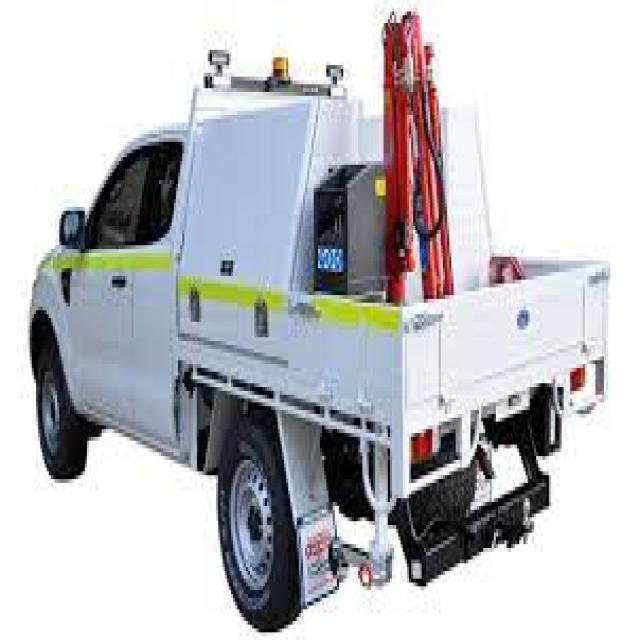light_vehicle: (23, 61, 602, 625)
